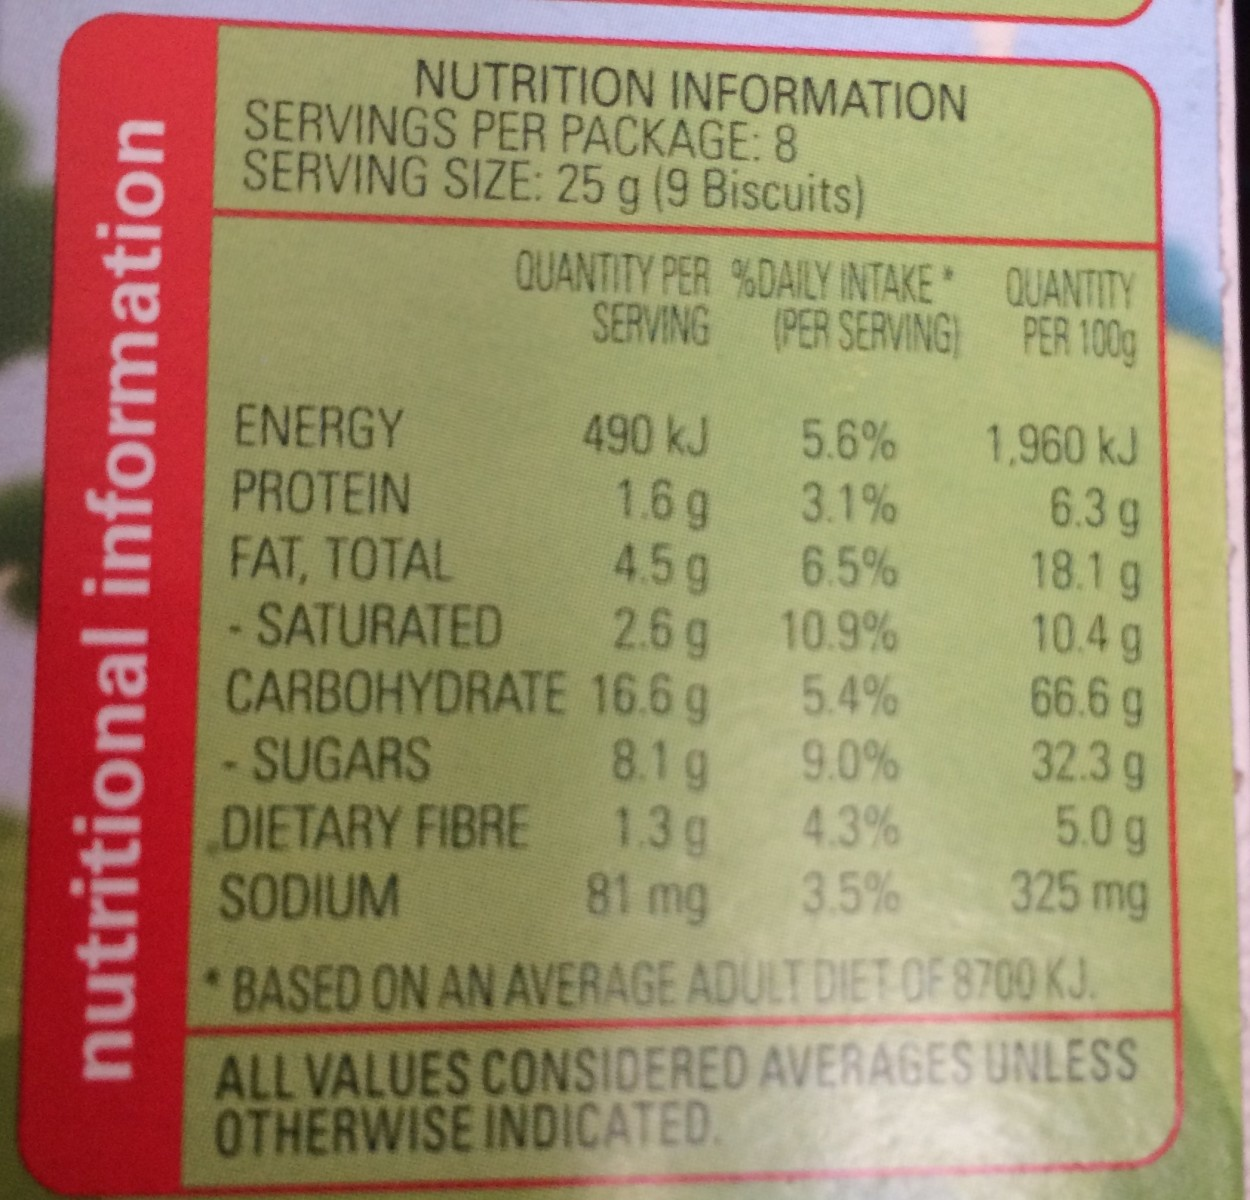column: (210, 395, 562, 944), (982, 409, 1151, 930), (578, 403, 715, 935), (775, 403, 906, 934)
table: (203, 60, 1160, 1027)
